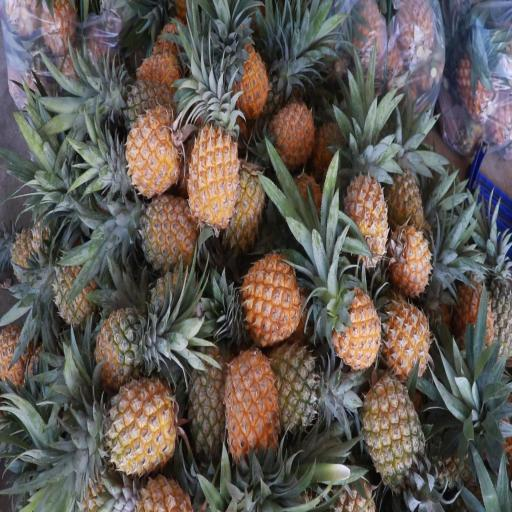------------------------------: (357, 361, 426, 495), (176, 322, 236, 450), (88, 296, 151, 386), (45, 245, 105, 322)
Pineapple - v8 v1: (93, 370, 180, 474), (221, 322, 278, 463), (185, 101, 242, 228), (122, 182, 195, 276), (120, 99, 183, 203), (234, 237, 300, 334), (342, 155, 392, 278), (324, 248, 379, 354), (445, 269, 501, 355), (378, 278, 430, 370), (263, 95, 316, 176), (384, 212, 433, 296), (225, 30, 269, 114)
